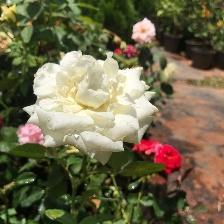rose: (23, 52, 161, 168), (156, 142, 186, 175), (131, 17, 159, 48), (22, 119, 45, 149), (134, 137, 161, 161)
